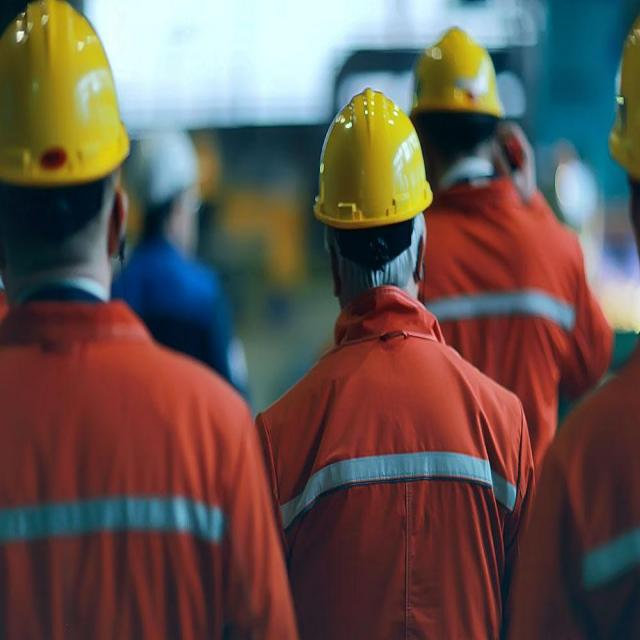Reflective-Jacket: (247, 296, 543, 640), (0, 291, 284, 640)
Safety-Helmet: (0, 1, 134, 199), (308, 84, 433, 244), (399, 18, 525, 146), (604, 0, 640, 190), (132, 120, 203, 216)
